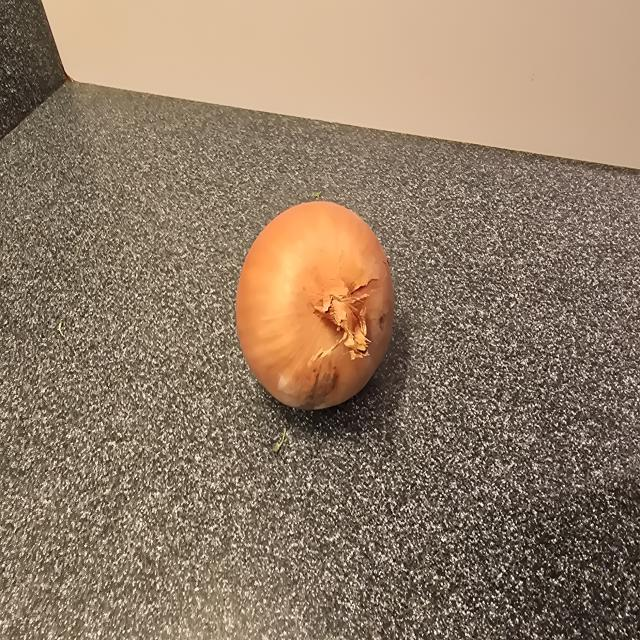Onion: (236, 202, 393, 410)
